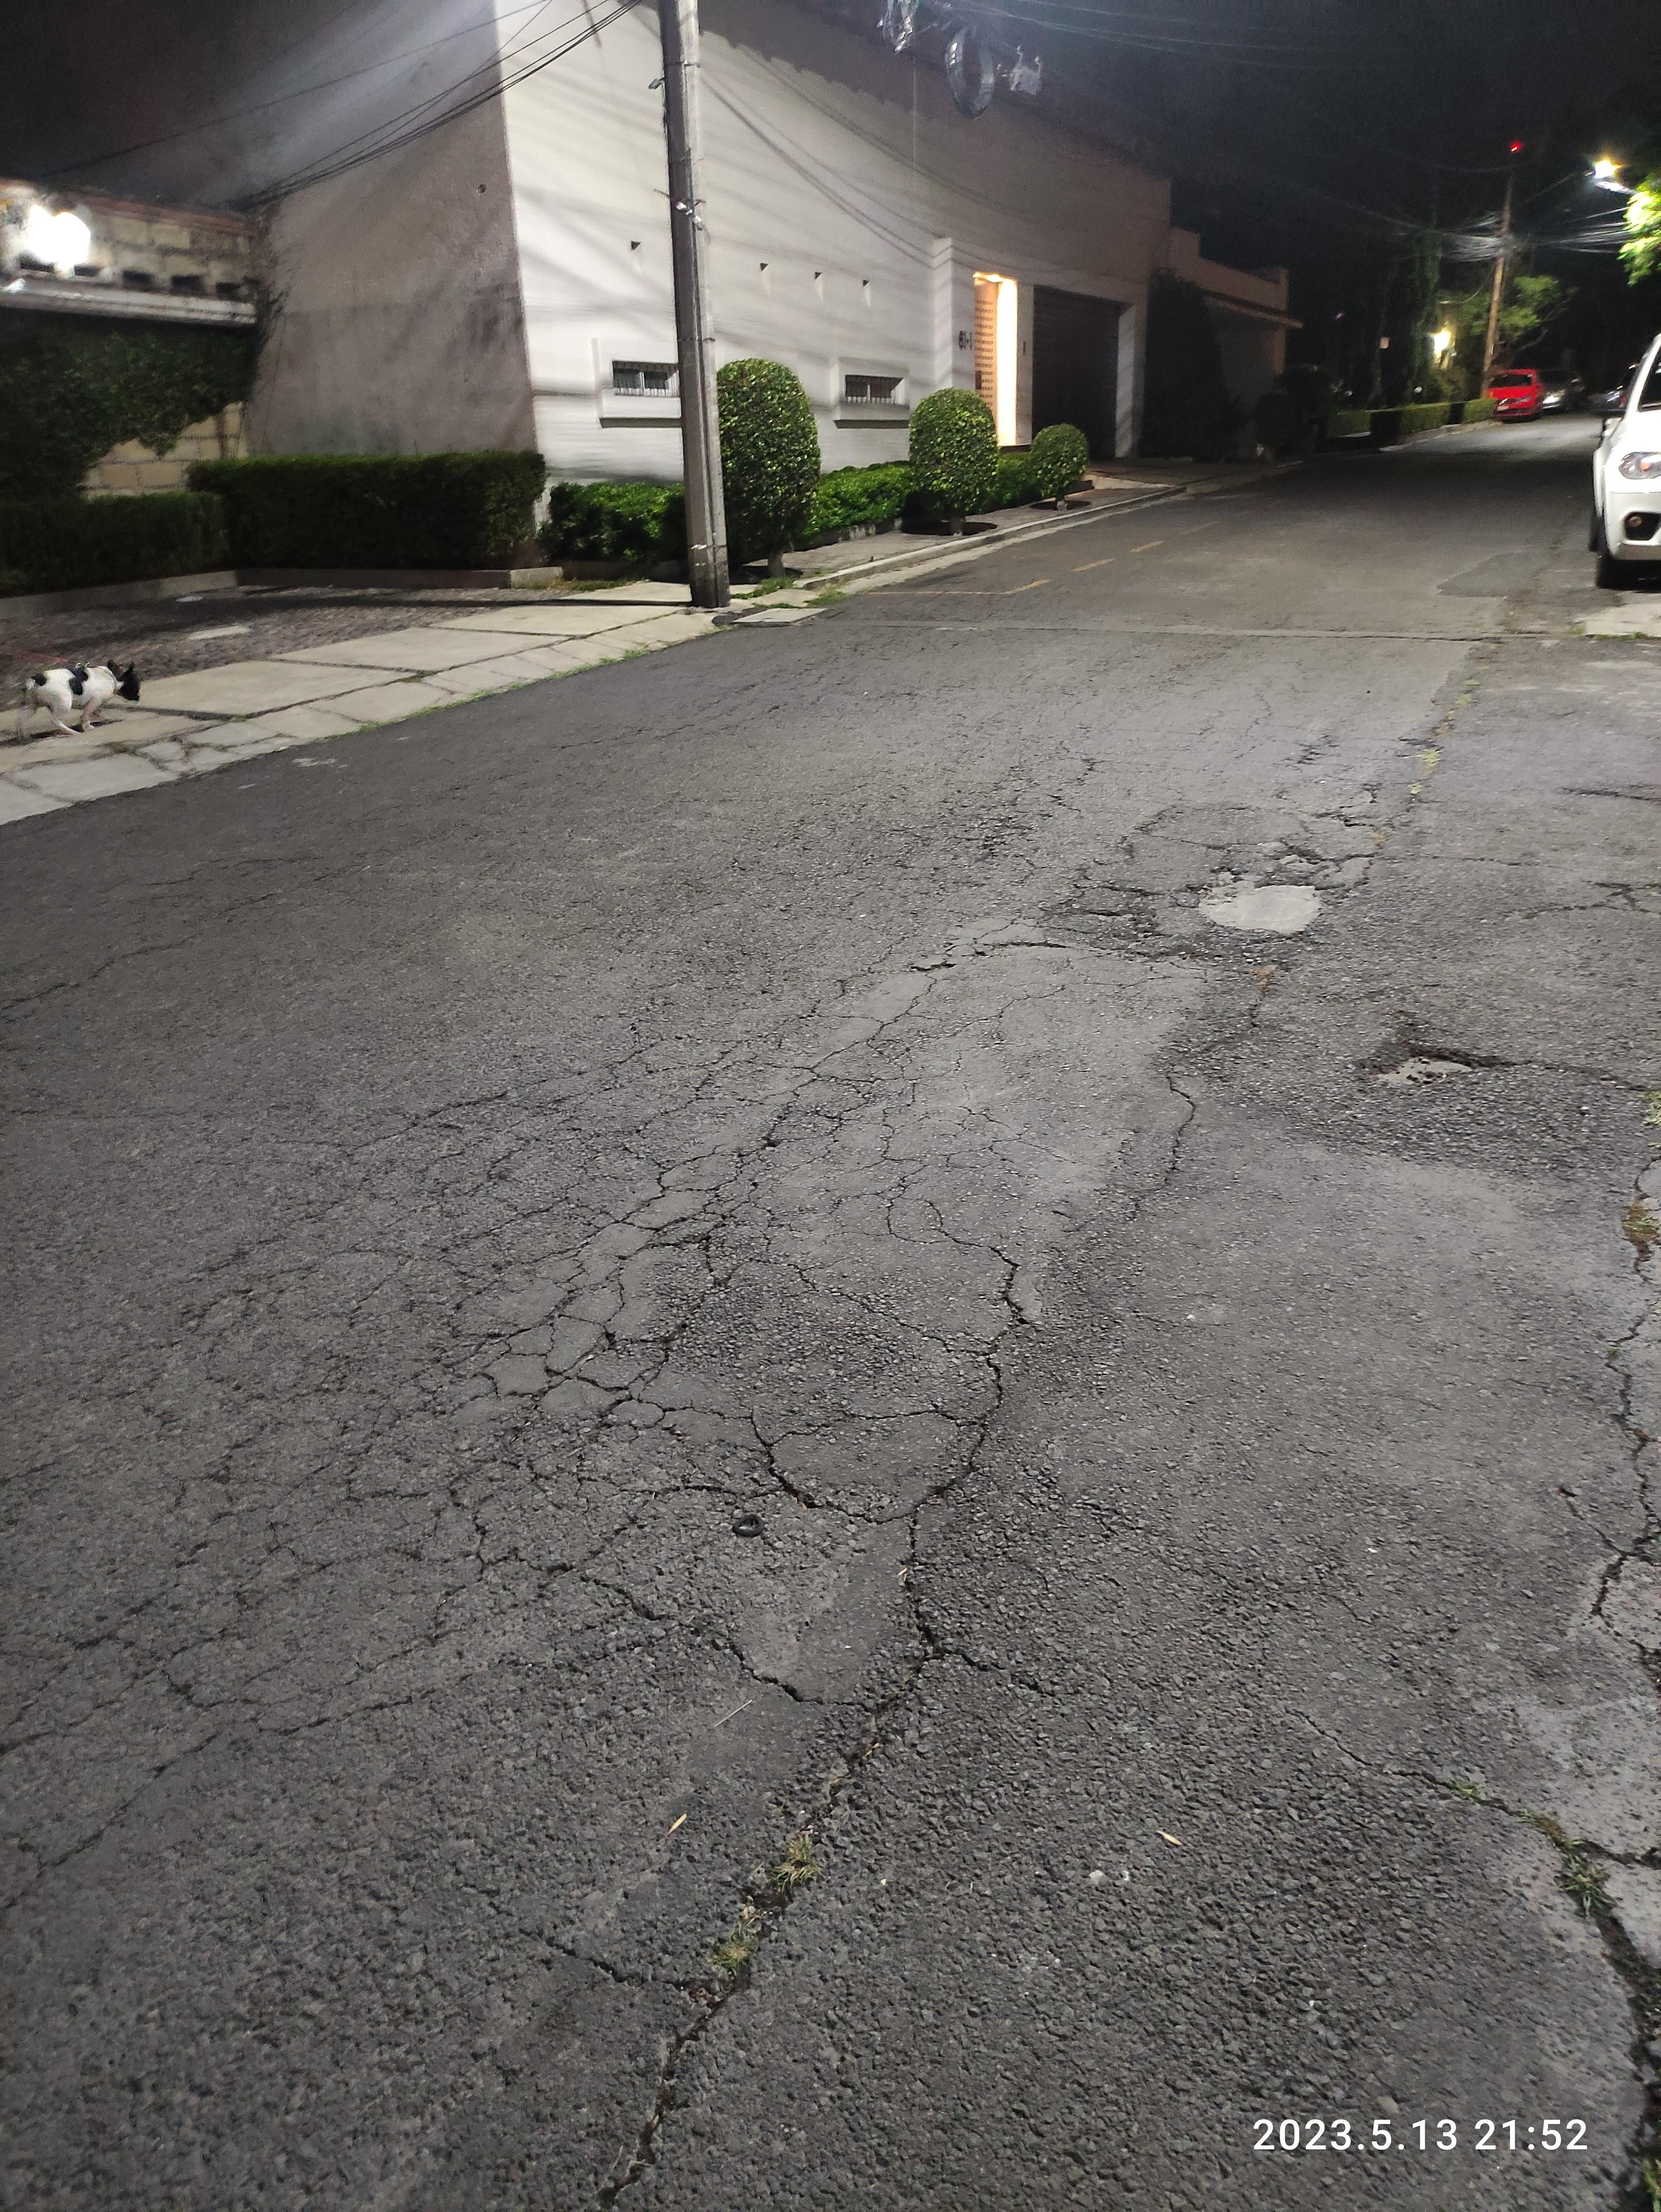alligator-crack: (0, 1031, 974, 1982), (923, 726, 1165, 984)
crack: (1413, 1772, 1661, 2212), (1115, 956, 1291, 1223), (1586, 1129, 1661, 1624), (1343, 720, 1446, 883)
pothole: (1185, 853, 1347, 947), (1368, 1029, 1511, 1103)
